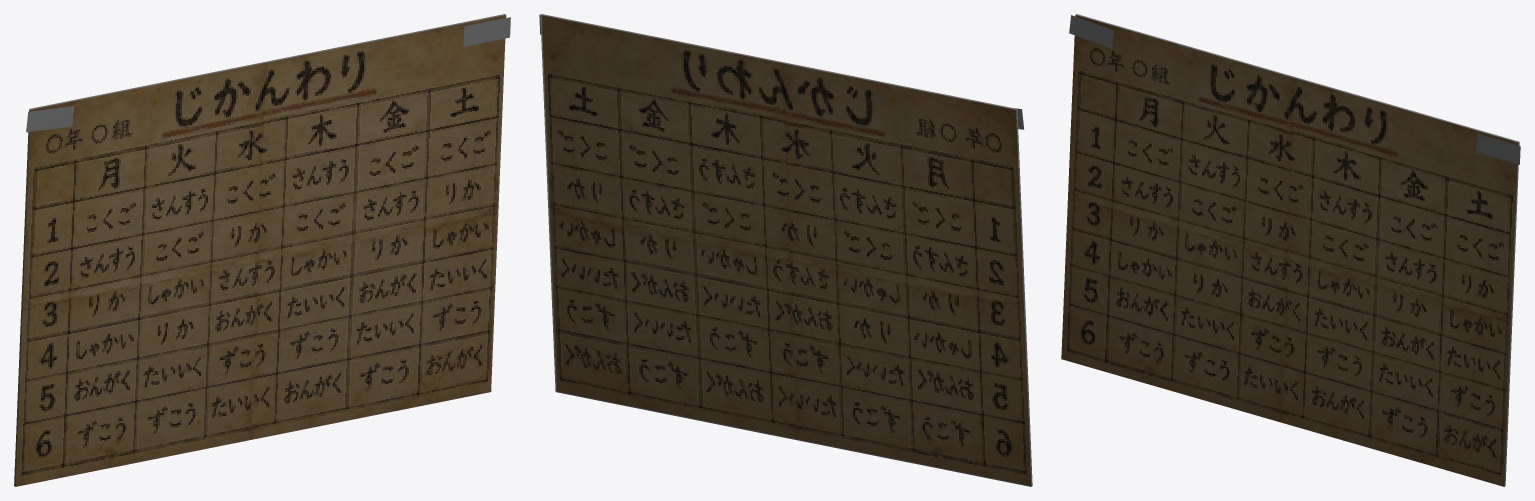
The model's file is prop_poster-jikanwari-2.glb.
3 renders of one model, left to right at view 1: azimuth 30°, elevation 25°; view 2: azimuth 150°, elevation 25°; view 3: azimuth 330°, elevation 25°, orthographic. The views are drawn at different scales.
Visible parts, largest first — view 1: prop_poster-jikanwari-2; view 2: prop_poster-jikanwari-2; view 3: prop_poster-jikanwari-2.
Boxes of the visible parts, x1,y1,x2,y2 form: prop_poster-jikanwari-2: (14, 14, 510, 486); prop_poster-jikanwari-2: (539, 14, 1032, 486); prop_poster-jikanwari-2: (1061, 14, 1520, 486).
Size of the model in its own units: 0.6379 by 0.4865 by 0.0055.
2 materials, 2 textured.
